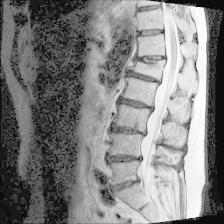disc: (124, 70, 165, 89), (134, 24, 168, 42), (132, 50, 170, 66), (134, 1, 164, 17)
hdisc: (115, 94, 159, 117), (107, 122, 151, 141), (108, 176, 145, 198), (106, 150, 146, 168)
